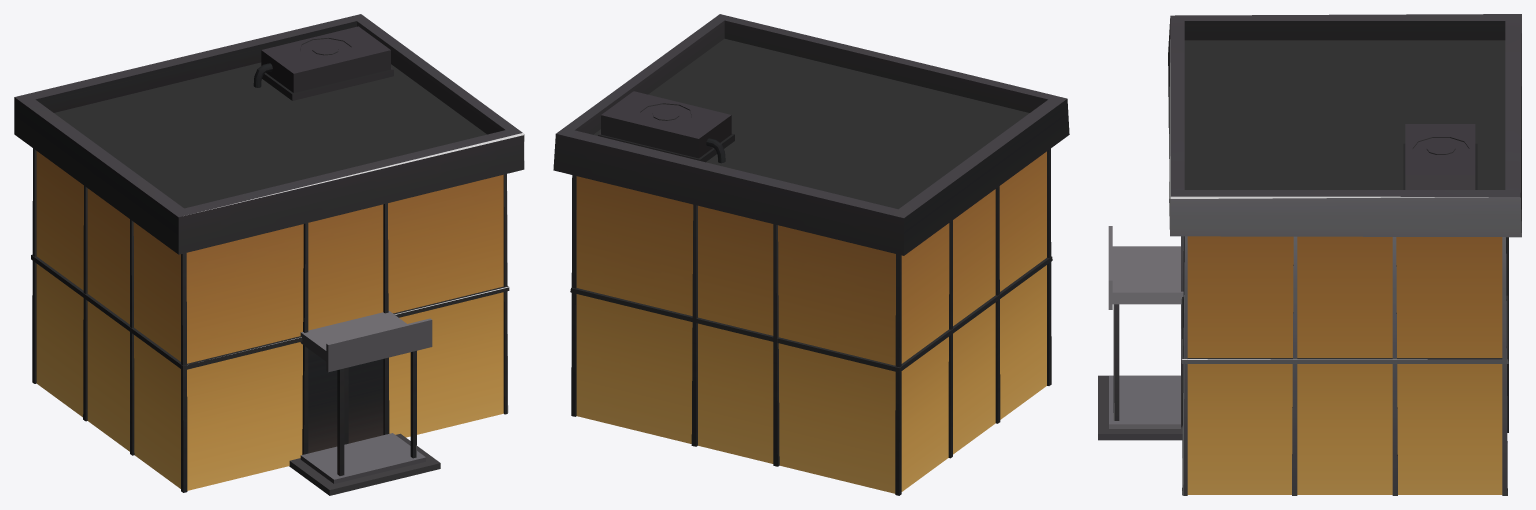
File: SM_Building_14.fbx
3 renders of one model, left to right at view 1: azimuth 30°, elevation 25°; view 2: azimuth 150°, elevation 25°; view 3: azimuth 270°, elevation 25°, orthographic. The views are drawn at different scales.
Visible parts, largest first — view 1: SM_Building_14; view 2: SM_Building_14; view 3: SM_Building_14.
Part boxes in pixels (x1,y1,x2,y2): SM_Building_14: (14, 14, 524, 495); SM_Building_14: (553, 14, 1069, 495); SM_Building_14: (1098, 14, 1521, 495).
Bounding box in the file's own units: 1400 × 1125 × 1372.
